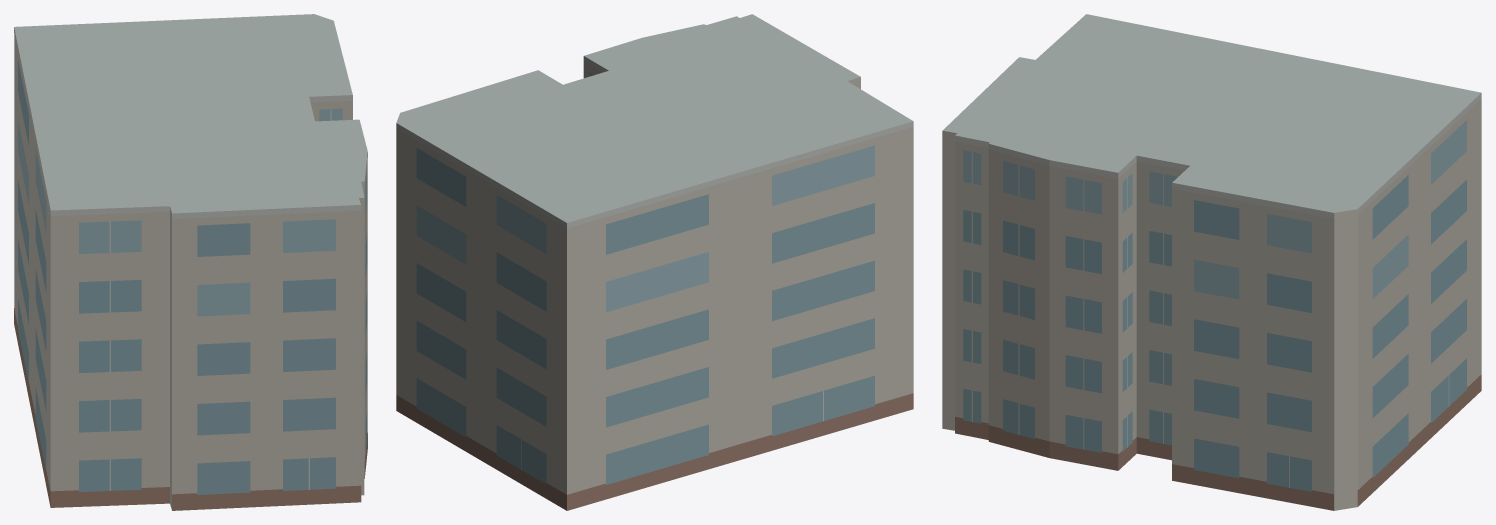
Rendered from survey-upis-32887075.glb.
3 views of the same model, side by side, from view 1: azimuth 30°, elevation 25°; view 2: azimuth 150°, elevation 25°; view 3: azimuth 270°, elevation 25° (orthographic). The views are drawn at different scales.
Parts seen in each view (by area): view 1: survey-upis-32887075.tmp; view 2: survey-upis-32887075.tmp; view 3: survey-upis-32887075.tmp.
Part boxes in pixels (x1,y1,x2,y2): survey-upis-32887075.tmp: (14,14,367,510); survey-upis-32887075.tmp: (396,14,913,510); survey-upis-32887075.tmp: (942,14,1481,510).
Size of the model in its own units: 18.19 by 12.7 by 20.84.
